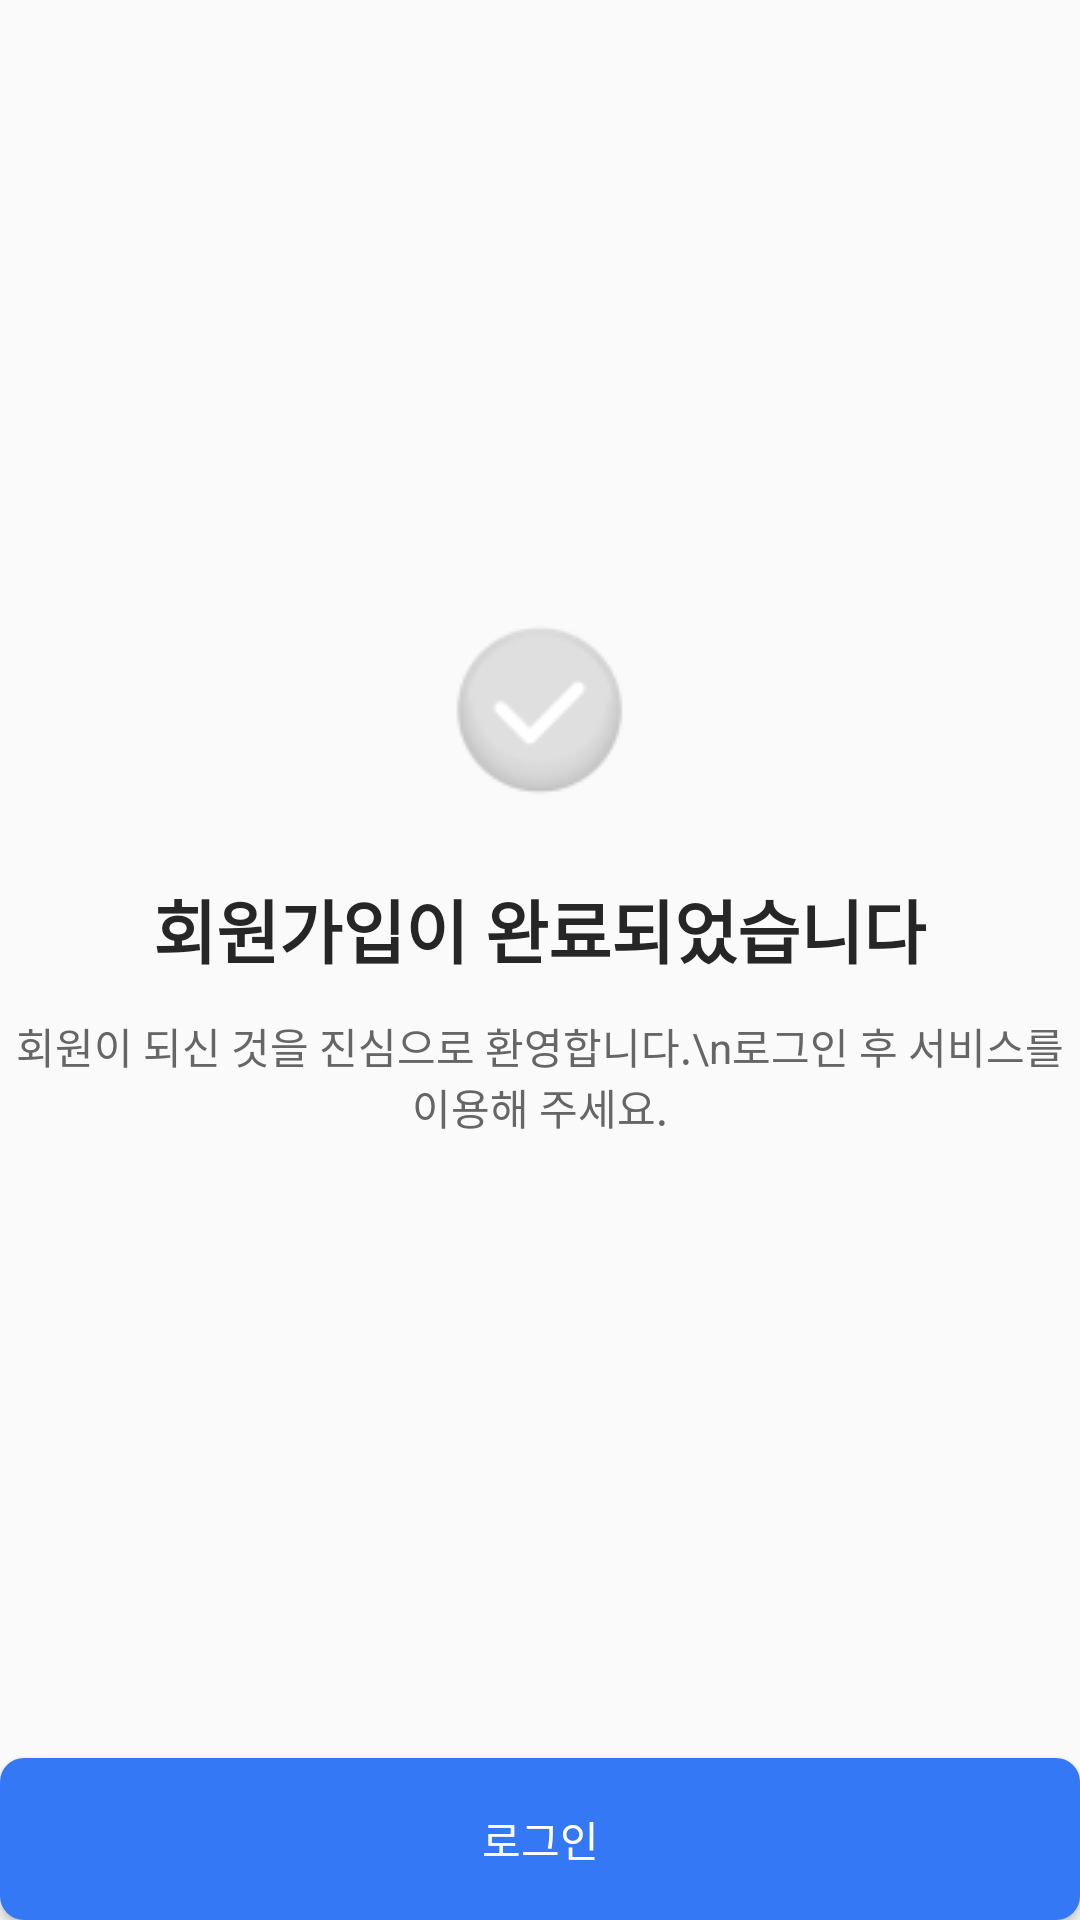

Named icons in this screenshot (1080x1920) and their centers, (x=x, y=y):
emoji mark check: (x=539, y=711)
